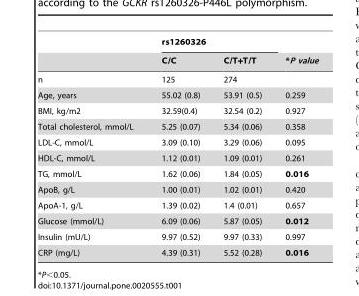table: (37, 37, 319, 256)
table column: (37, 37, 146, 256), (146, 37, 211, 256), (211, 37, 272, 256), (272, 37, 319, 256)
table column header: (37, 37, 319, 70)
table row: (37, 49, 319, 70), (37, 70, 319, 87), (37, 102, 319, 118), (37, 118, 319, 134), (37, 134, 319, 150), (37, 165, 319, 181), (37, 181, 319, 197), (37, 197, 319, 213), (37, 228, 319, 244), (37, 87, 319, 102), (37, 150, 319, 165), (37, 213, 319, 228), (37, 37, 319, 49), (37, 244, 319, 256)
table spanning cell: (272, 37, 319, 70), (146, 37, 272, 49)
